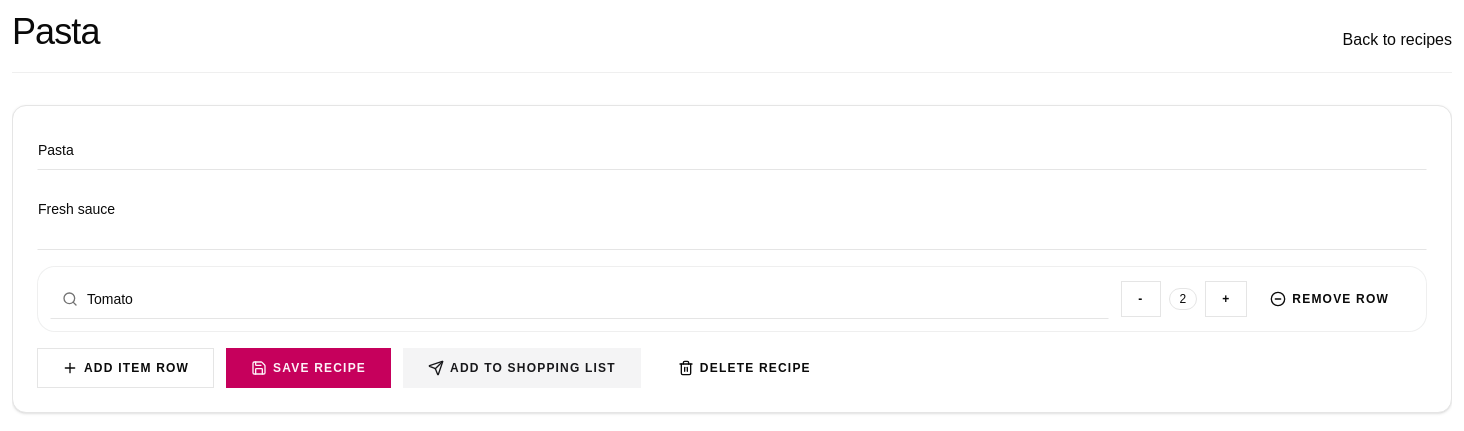
Scenario: RecipeDetailPage › shows a loading state while saving recipe changes
Click the button "Save recipe": [309, 368] box top-left (226, 348), bottom-right (391, 388)
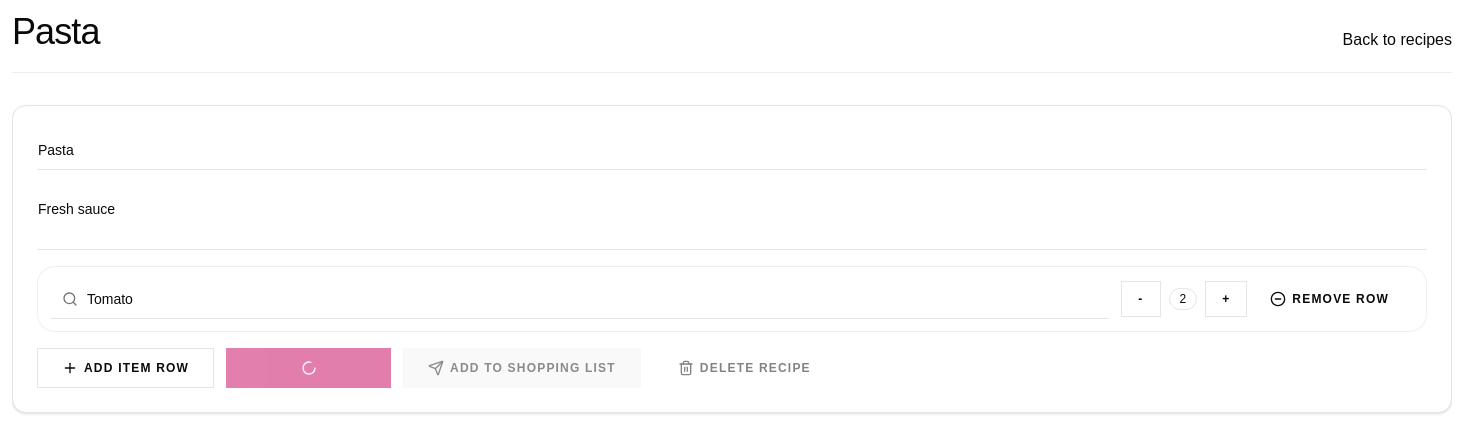
Result: the button named "Save recipe" is disabled at top-left (226, 348), bottom-right (391, 388)
